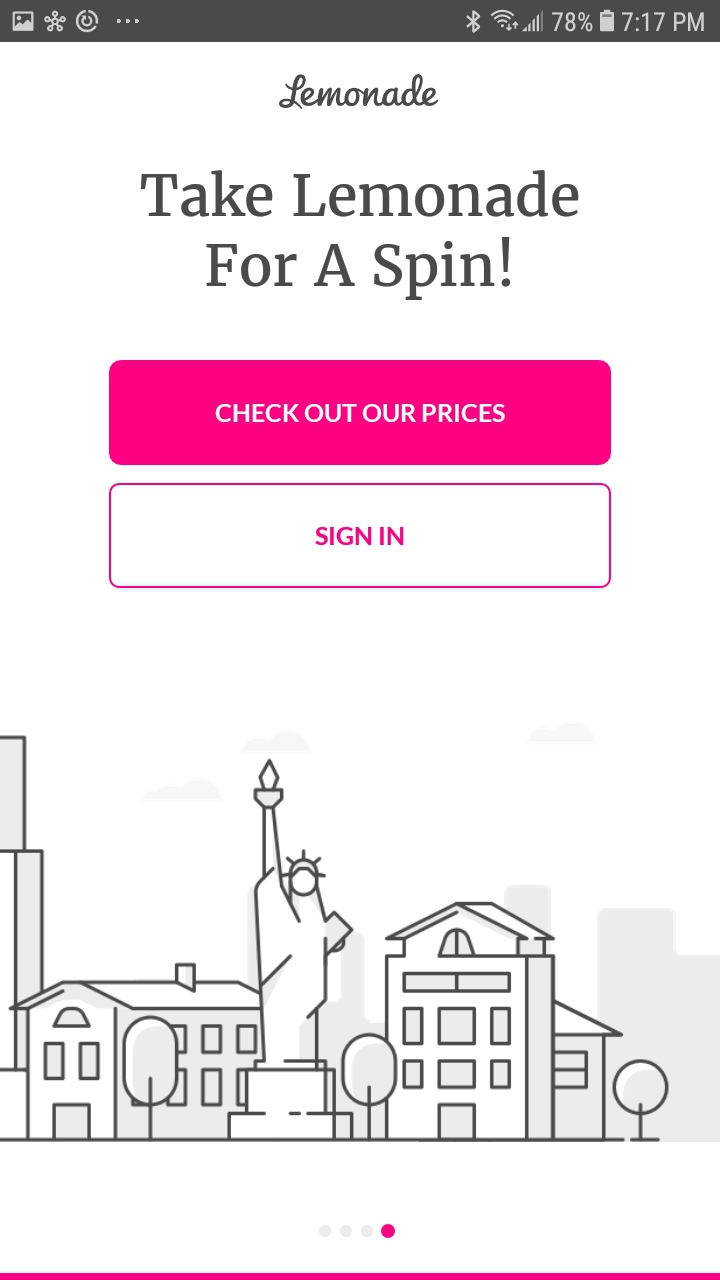Image: (1, 735, 719, 1144), (279, 74, 440, 111)
PageIndicator: (319, 1223, 397, 1239)
Text: (140, 170, 580, 302)
TextButton: (108, 482, 612, 589), (109, 360, 612, 467)
UpperTaskBar: (1, 1, 720, 43)
